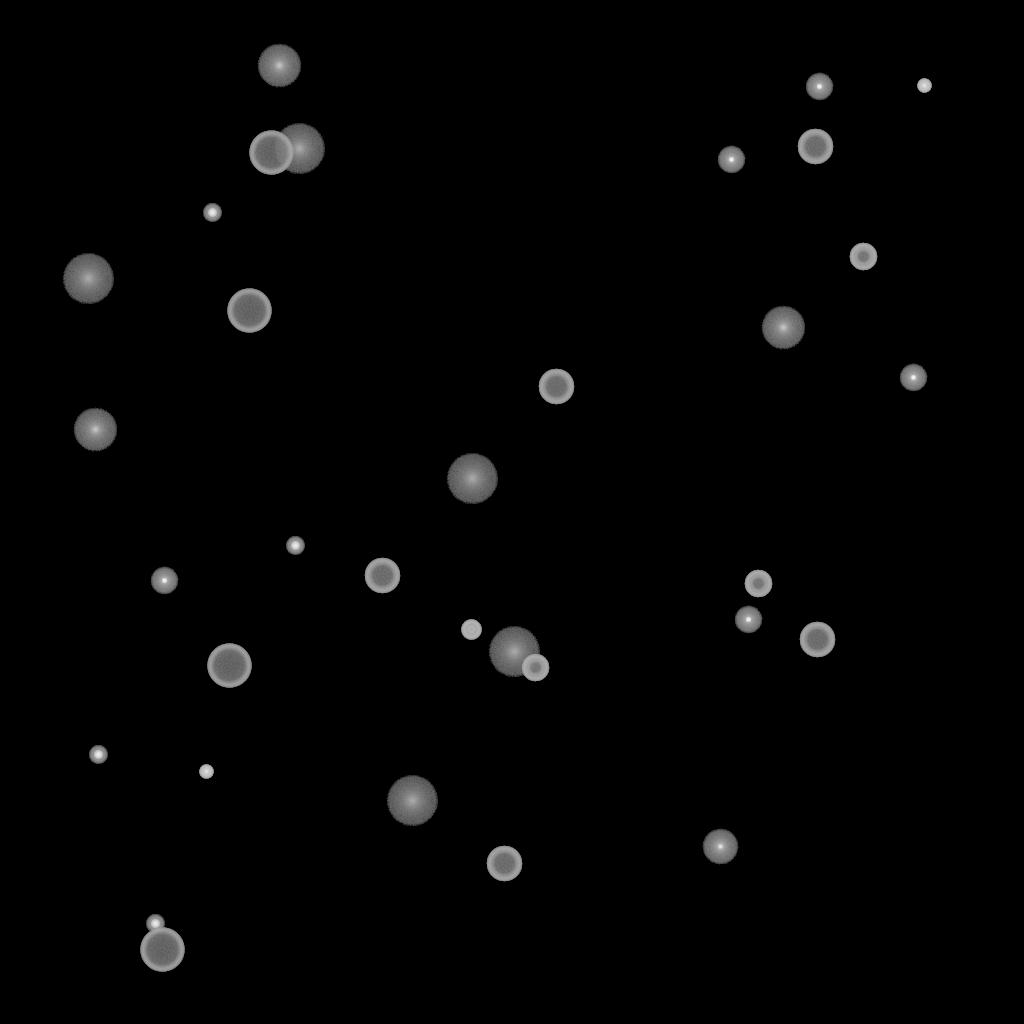depth:-10: (150, 567, 178, 595), (717, 146, 745, 174), (805, 73, 833, 101), (734, 606, 762, 634), (899, 364, 927, 392)
depth:-20: (203, 204, 221, 222), (89, 746, 107, 764), (286, 537, 304, 555), (146, 915, 164, 933)
depth:-30: (917, 79, 931, 93), (199, 765, 213, 779)
depth:-40: (461, 620, 481, 640)
depth:-50: (521, 654, 549, 682), (744, 570, 772, 598), (849, 243, 877, 271)
depth:-60: (364, 558, 400, 594), (799, 622, 835, 658), (797, 129, 833, 165), (538, 369, 574, 405), (486, 846, 522, 882)
depth:-70: (207, 644, 251, 688), (140, 928, 184, 972), (249, 131, 293, 175), (227, 289, 271, 333)
depth:0: (702, 829, 738, 865)
depth:10: (73, 408, 117, 452), (761, 306, 805, 350), (257, 44, 301, 88)
depth:20: (386, 776, 438, 826), (488, 627, 540, 677), (62, 254, 114, 304), (446, 454, 498, 504), (273, 124, 325, 174)
